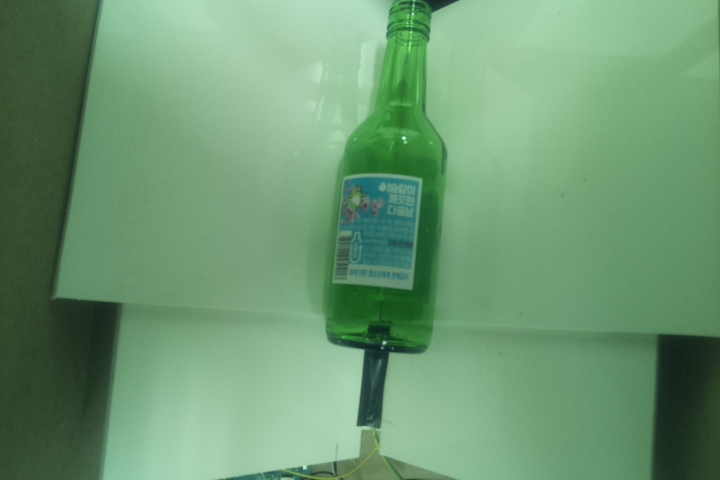soju: (321, 1, 449, 358)
